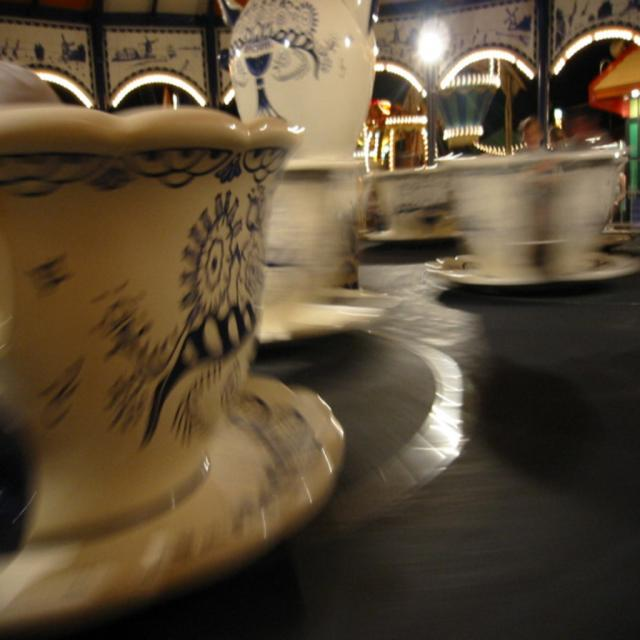non-organic waste: (0, 358, 341, 640)
